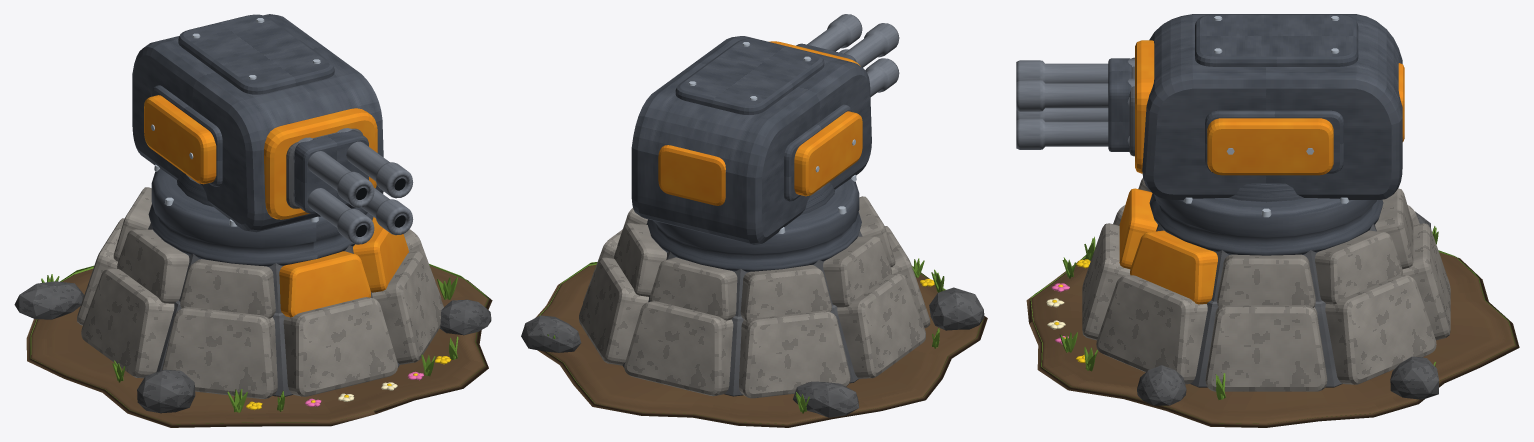
Rendered from gun_turret_l1.glb.
3 renders of one model, left to right at view 1: azimuth 30°, elevation 25°; view 2: azimuth 150°, elevation 25°; view 3: azimuth 270°, elevation 25°, orthographic. The views are drawn at different scales.
Visible parts, largest first — view 1: BaseStoneBlocks, TurretArmoredBody, BaseEarthRim, BaseBearingSteel, TurretOrangeArmor, BarrelTubes, BaseOrangeAccents, BaseBoulders, BarrelStabilizerClamp, BaseGrassTurf, BaseMortarCore, TurretCradleDark; view 2: BaseStoneBlocks, TurretArmoredBody, BaseEarthRim, BaseBearingSteel, TurretOrangeArmor, BaseBoulders, BarrelTubes, BaseMortarCore, BaseGrassTurf; view 3: BaseStoneBlocks, TurretArmoredBody, BaseEarthRim, BaseBearingSteel, TurretOrangeArmor, BarrelTubes, BaseOrangeAccents, BaseBoulders, BaseMortarCore, BarrelStabilizerClamp, BaseGrassTurf.
Part boxes in pixels (bbox=[...]): BaseStoneBlocks: bbox=[77, 187, 443, 399]; TurretArmoredBody: bbox=[132, 14, 383, 232]; BaseEarthRim: bbox=[26, 265, 492, 427]; BaseBearingSteel: bbox=[148, 168, 373, 266]; TurretOrangeArmor: bbox=[144, 95, 377, 219]; BarrelTubes: bbox=[293, 128, 413, 244]; BaseOrangeAccents: bbox=[279, 217, 408, 317]; BaseBoulders: bbox=[14, 281, 491, 413]; BarrelStabilizerClamp: bbox=[294, 130, 368, 213]; BaseGrassTurf: bbox=[30, 264, 488, 424]; BaseMortarCore: bbox=[148, 223, 399, 396]; TurretCradleDark: bbox=[286, 128, 362, 208]; BaseStoneBlocks: bbox=[579, 196, 930, 398]; TurretArmoredBody: bbox=[631, 36, 871, 244]; BaseEarthRim: bbox=[535, 264, 987, 427]; BaseBearingSteel: bbox=[647, 179, 861, 272]; TurretOrangeArmor: bbox=[658, 41, 862, 205]; BaseBoulders: bbox=[521, 287, 984, 417]; BarrelTubes: bbox=[807, 14, 899, 96]; BaseMortarCore: bbox=[622, 223, 862, 396]; BaseGrassTurf: bbox=[539, 258, 982, 424]; BaseStoneBlocks: bbox=[1082, 178, 1450, 391]; TurretArmoredBody: bbox=[1142, 14, 1402, 202]; BaseEarthRim: bbox=[1026, 252, 1519, 427]; BaseBearingSteel: bbox=[1149, 193, 1383, 255]; TurretOrangeArmor: bbox=[1135, 40, 1404, 175]; BarrelTubes: bbox=[1016, 59, 1134, 149]; BaseOrangeAccents: bbox=[1119, 188, 1217, 304]; BaseBoulders: bbox=[1137, 211, 1438, 405]; BaseMortarCore: bbox=[1156, 223, 1376, 387]; BarrelStabilizerClamp: bbox=[1108, 58, 1132, 151]; BaseGrassTurf: bbox=[1030, 226, 1515, 423].
Size of the model in its own units: 2.46 by 1.6 by 2.5.
13 materials, 8 textured.
